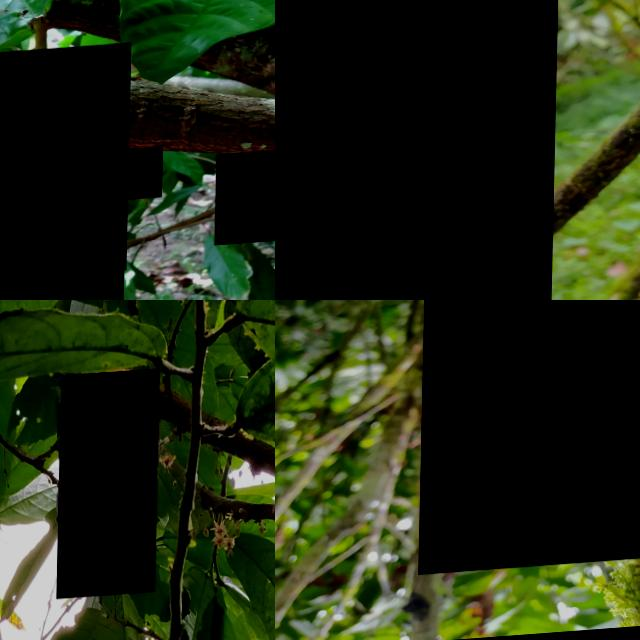Fitoftora: (275, 0, 561, 300), (421, 300, 640, 577), (59, 375, 161, 604), (0, 184, 127, 300), (0, 170, 7, 197)
Sana: (0, 48, 132, 284), (216, 157, 275, 252), (127, 153, 164, 205)
